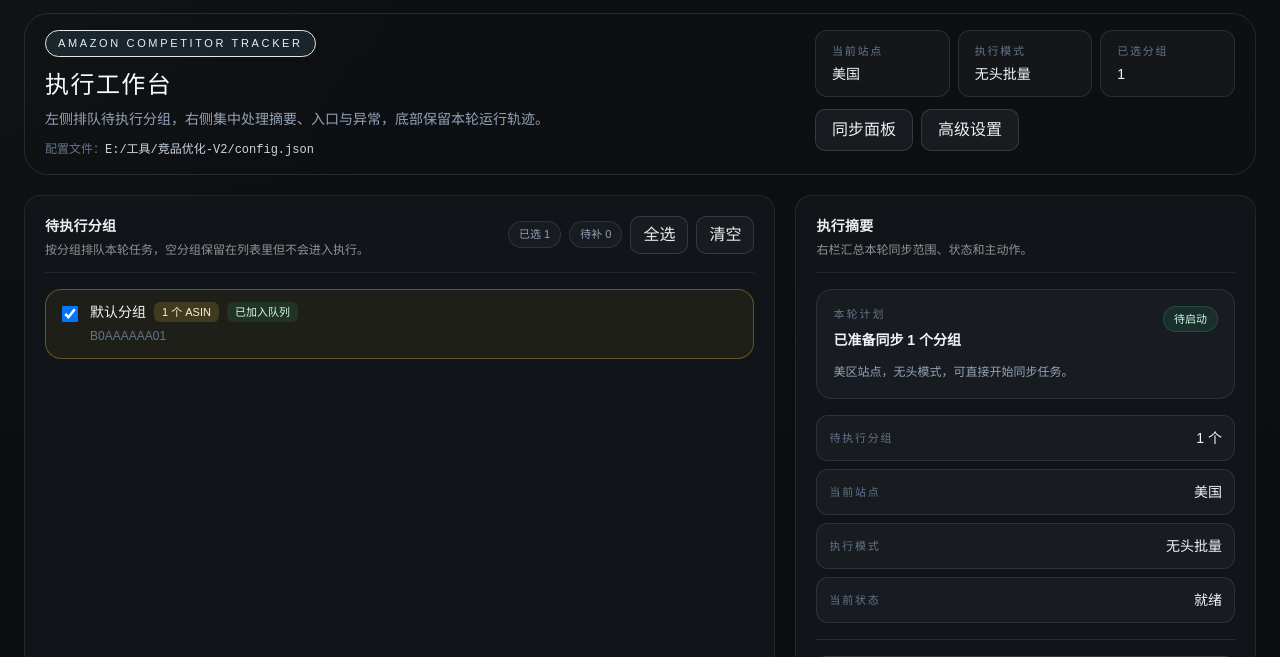
Test: App command center home › 清空当前分组 ASIN 后切回同步页会立即禁用主 CTA
This screenshot has width=1280, height=657.
Click the tab "高级设置". click: (970, 130)
box: [921,108,1019,150]
(page scrolled)
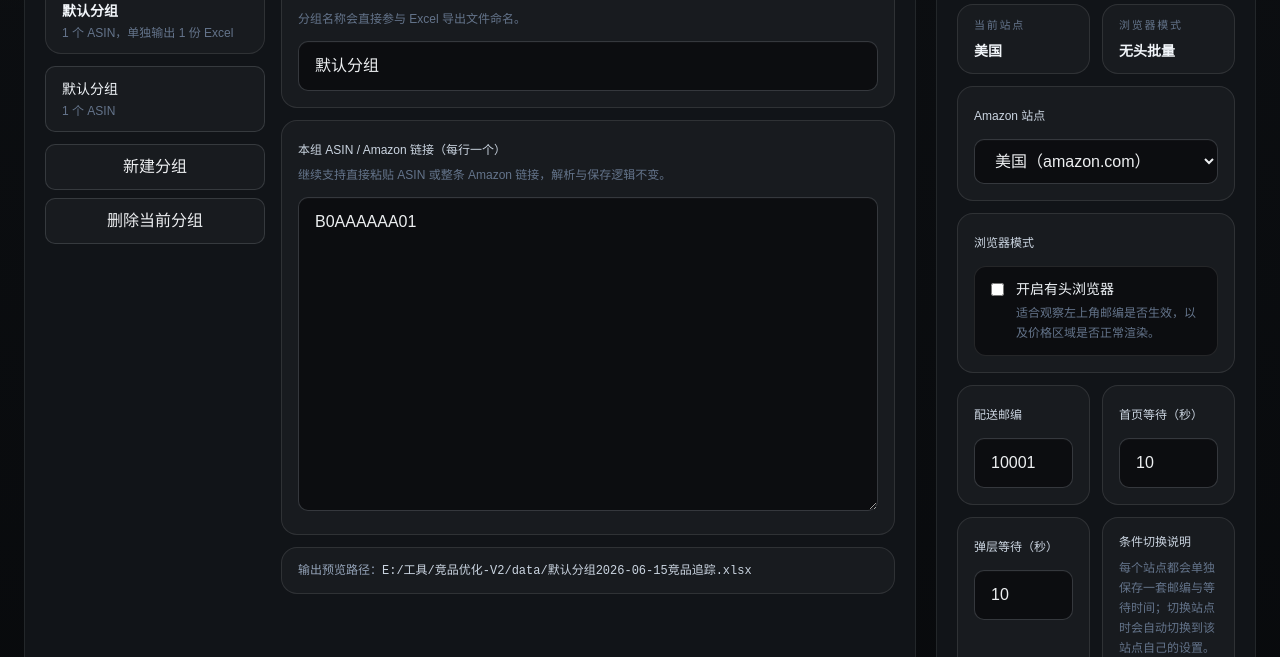
Clear the text box labelled "本组 ASIN / Amazon 链接（每行一个）". click: (588, 354)
box: [298,196,878,510]
(page scrolled)
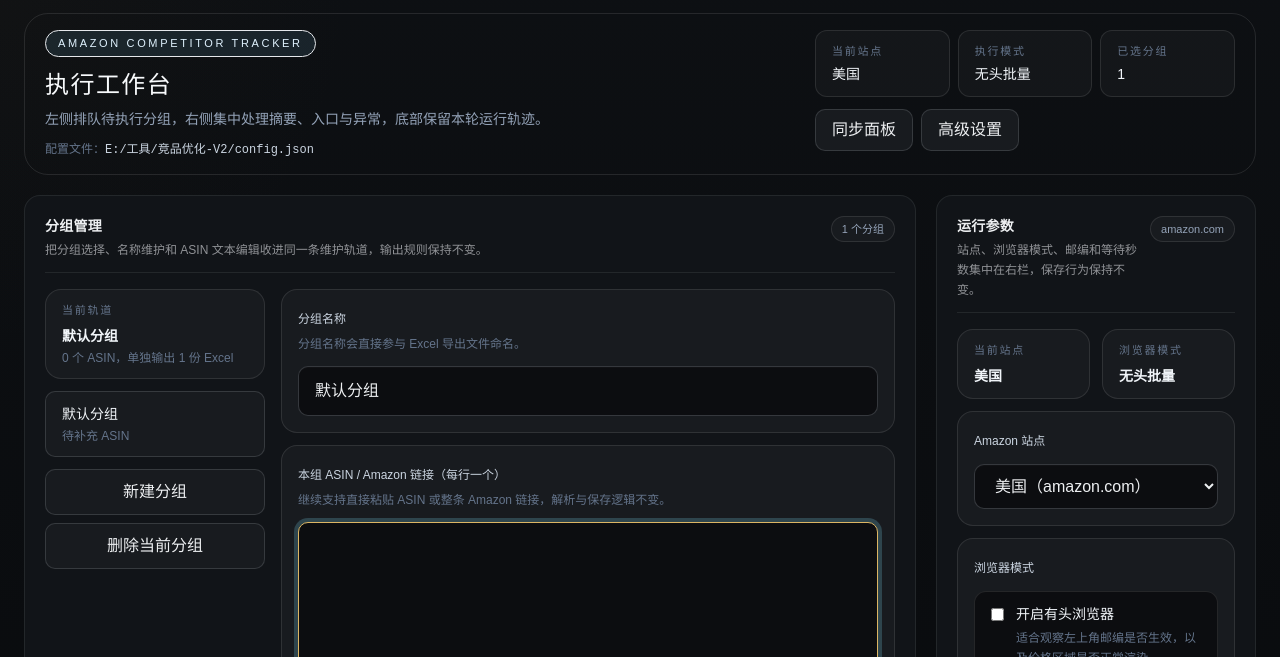
Click the tab "同步面板". click: (864, 130)
box: [815,108,913,150]
(page scrolled)
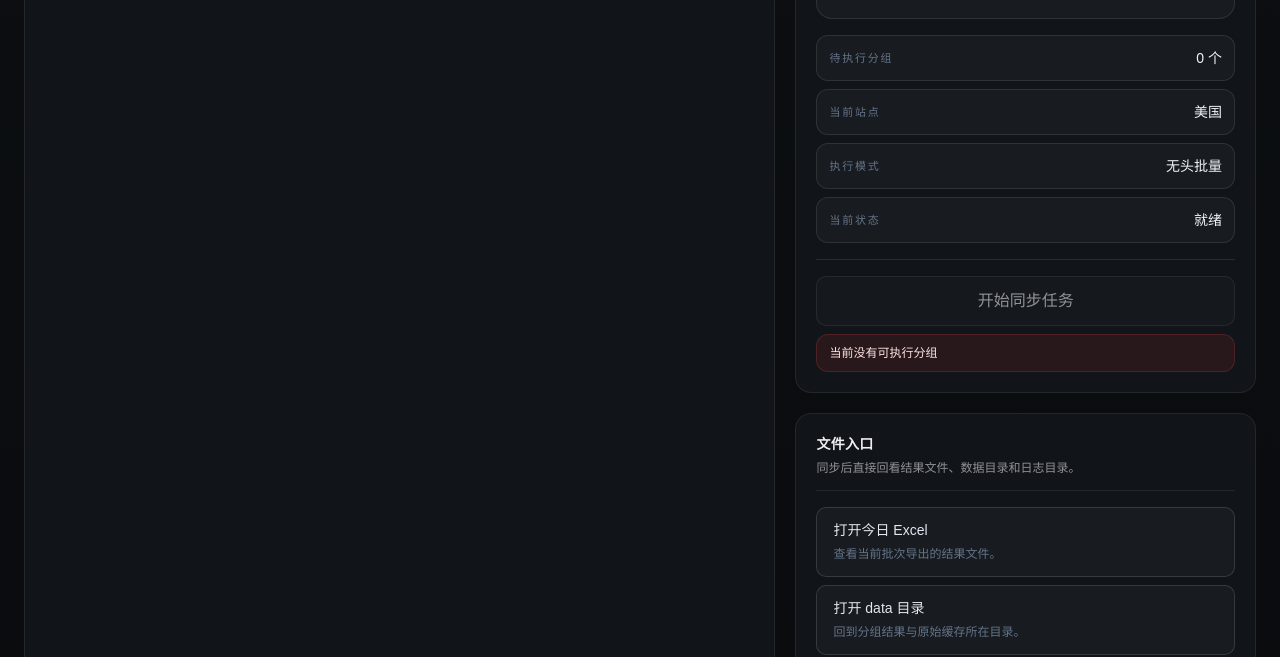
Check: the button "开始同步任务" is disabled, box [816,276,1235,326]
Check: the text "当前没有可执行分组" is shown, box [816,334,1235,372]
